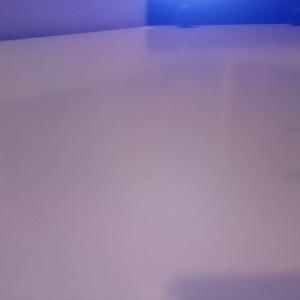dead_ball: (175, 4, 193, 27)
